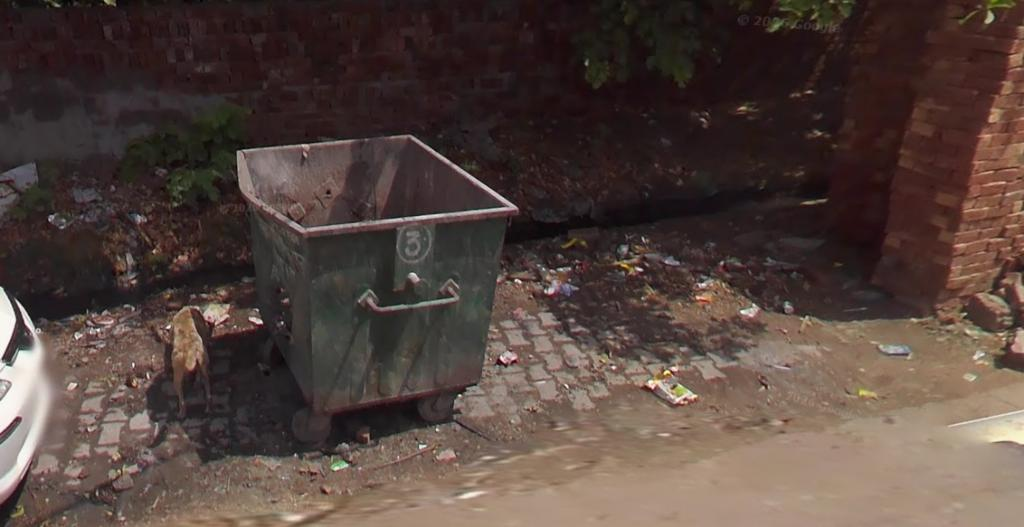dustbin: (228, 128, 523, 448)
